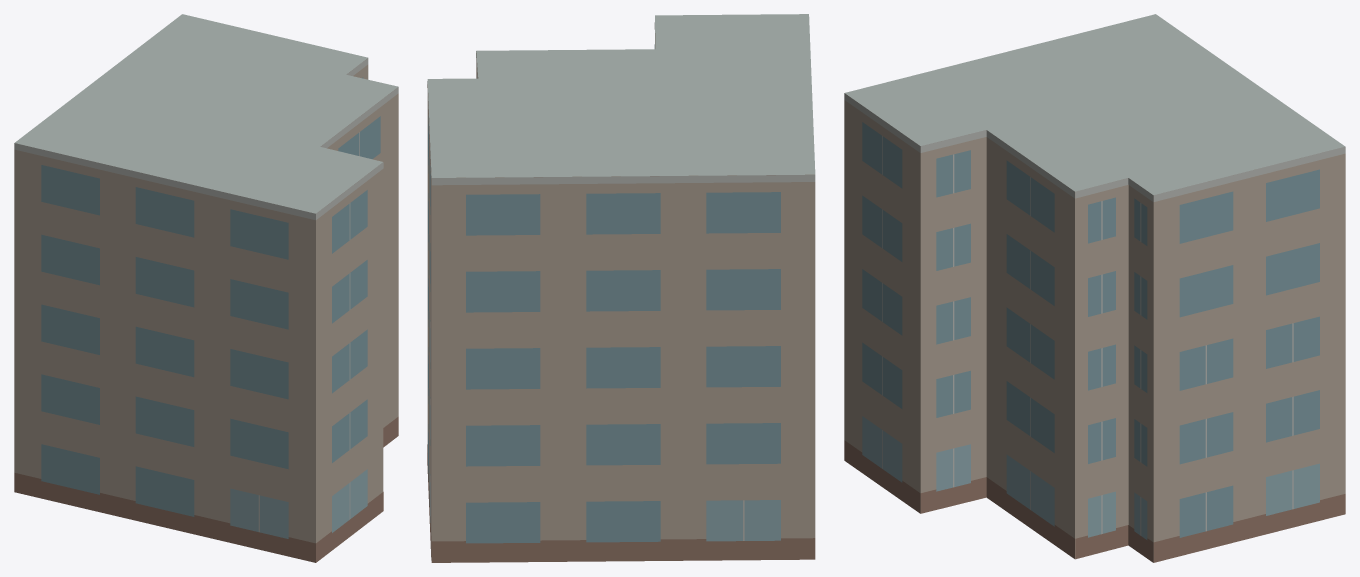
Rendered from survey-upis-32687794.glb.
3 views of the same model, side by side, from view 1: azimuth 30°, elevation 25°; view 2: azimuth 150°, elevation 25°; view 3: azimuth 270°, elevation 25° (orthographic). The views are drawn at different scales.
Parts seen in each view (by area): view 1: survey-upis-32687794.tmp; view 2: survey-upis-32687794.tmp; view 3: survey-upis-32687794.tmp.
Part boxes in pixels (<box>): survey-upis-32687794.tmp: <box>14,14,398,562</box>; survey-upis-32687794.tmp: <box>427,14,815,562</box>; survey-upis-32687794.tmp: <box>844,14,1345,562</box>.
Bounding box in the file's own units: 13.71 × 12.95 × 16.01.
